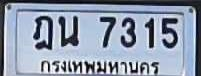1: (144, 17, 153, 47)
3: (119, 16, 135, 47)
5: (161, 17, 177, 48)
7: (99, 16, 115, 47)
A14: (32, 15, 52, 49)
A25: (58, 15, 78, 46)
BKK: (37, 57, 161, 76)
